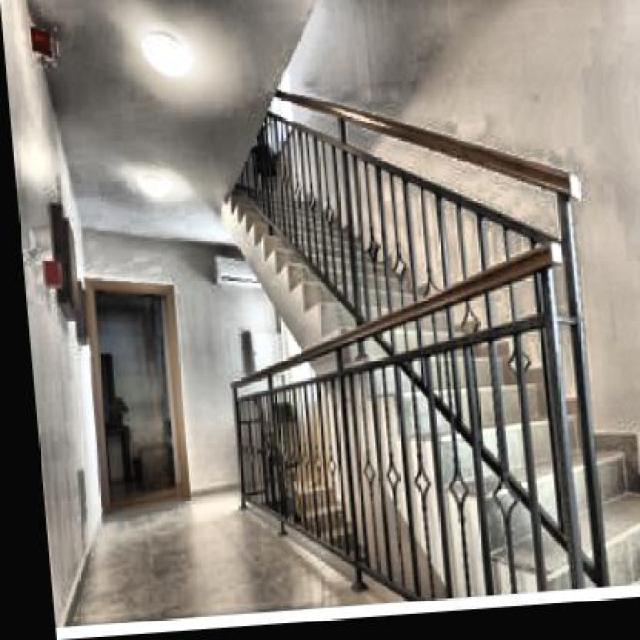stair: (218, 70, 638, 598)
